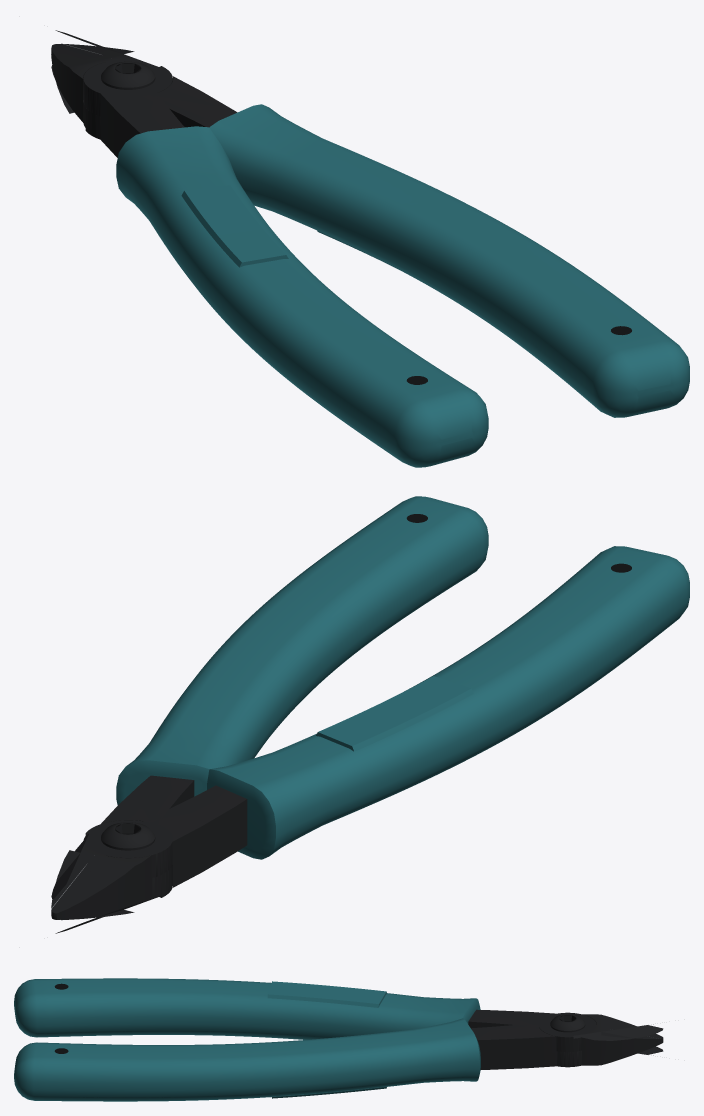
File: cutters.glb
3 views of the same model, one above another, from view 1: azimuth 30°, elevation 25°; view 2: azimuth 150°, elevation 25°; view 3: azimuth 270°, elevation 25° (orthographic). The views are drawn at different scales.
Parts seen in each view (by area): view 1: CutterBottom, CutterTop; view 2: CutterTop, CutterBottom; view 3: CutterBottom, CutterTop.
Boxes of the visible parts, x1=… form: CutterBottom: x1=51, y1=44, x2=689, y2=417; CutterTop: x1=55, y1=30, x2=488, y2=467; CutterTop: x1=51, y1=546, x2=689, y2=919; CutterBottom: x1=54, y1=496, x2=488, y2=933; CutterBottom: x1=14, y1=1014, x2=663, y2=1101; CutterTop: x1=14, y1=978, x2=663, y2=1065.
Bounding box in the file's own units: 0.0431 × 0.01 × 0.1308.
